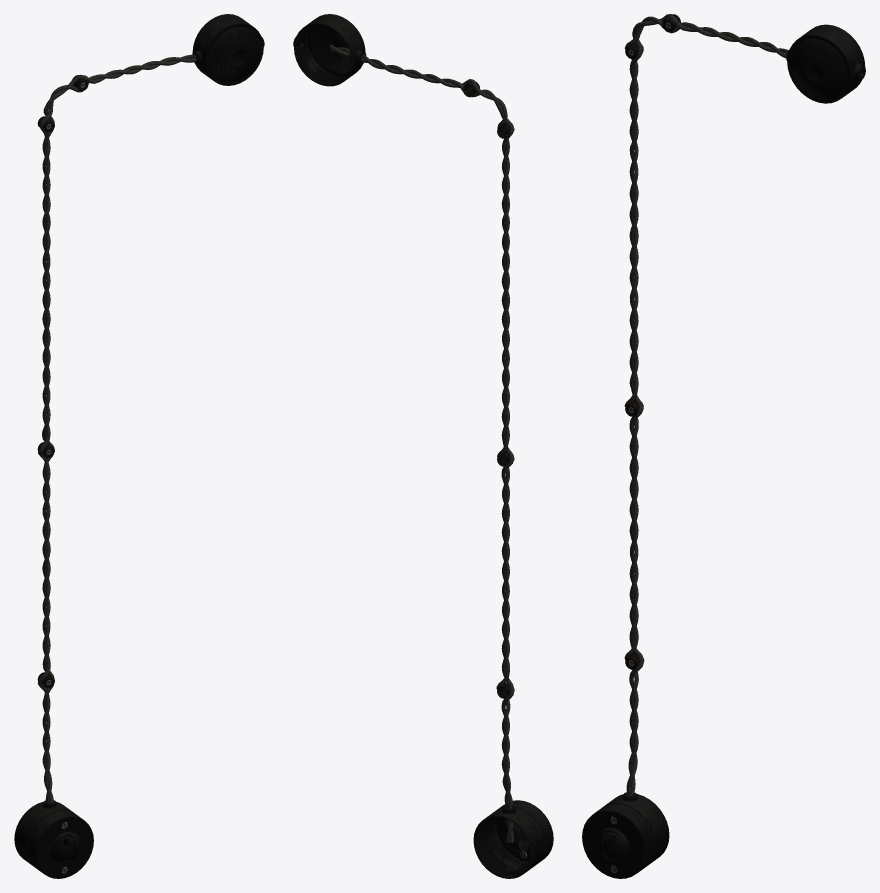
The model's file is vintage_bakelit_light_switch.fbx.
3 renders of one model, left to right at view 1: azimuth 30°, elevation 25°; view 2: azimuth 150°, elevation 25°; view 3: azimuth 330°, elevation 25°, orthographic. The views are drawn at different scales.
Visible parts, largest first — view 1: wirestraight_01, spliterbox, cover, wirebent_01, base; view 2: wirestraight_01, spliterbox, base, wirebent_01, cover; view 3: wirestraight_01, spliterbox, cover, wirebent_01, base.
Part boxes in pixels (box(x1,y1,x2,y2)): wirestraight_01: box(37, 212, 54, 803); spliterbox: box(192, 14, 264, 85); cover: box(27, 810, 93, 878); wirebent_01: box(39, 54, 196, 213); base: box(14, 800, 74, 867); wirestraight_01: box(496, 218, 514, 842); spliterbox: box(293, 14, 366, 86); base: box(473, 805, 544, 878); wirebent_01: box(329, 44, 514, 220); cover: box(487, 800, 553, 868); wirestraight_01: box(624, 146, 644, 795); spliterbox: box(786, 24, 865, 103); cover: box(582, 804, 654, 878); wirebent_01: box(624, 14, 788, 148); base: box(602, 792, 669, 866).
Bounding box in the file's own units: 20.27 × 64.66 × 4.32.
